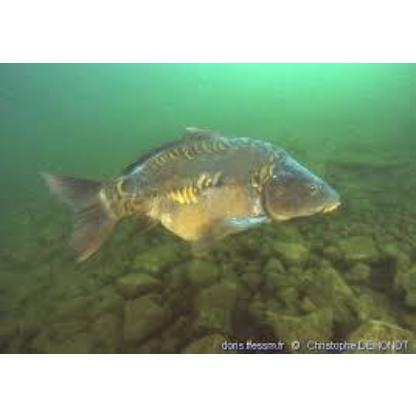ikan-mas: (52, 126, 340, 256)
